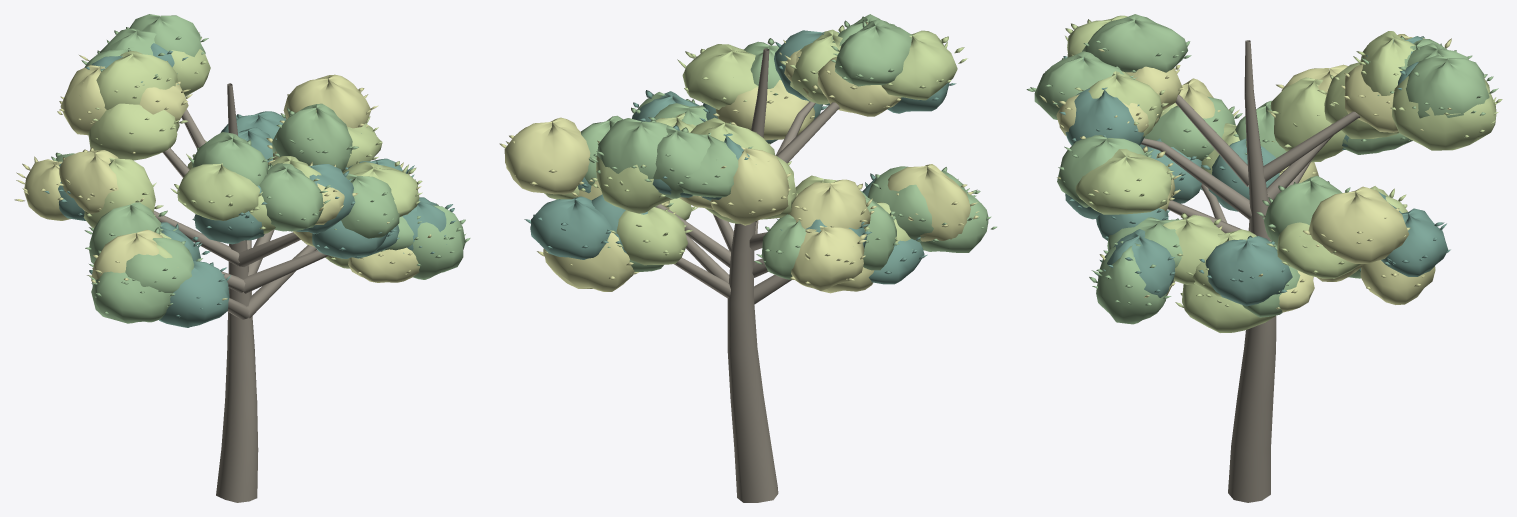
Rendered from oak_arch.glb.
3 renders of one model, left to right at view 1: azimuth 30°, elevation 25°; view 2: azimuth 150°, elevation 25°; view 3: azimuth 270°, elevation 25°, orthographic. The views are drawn at different scales.
Visible parts, largest first — view 1: oak_arch; view 2: oak_arch; view 3: oak_arch.
Boxes of the visible parts, <box> form: oak_arch: <box>14,14,470,502</box>; oak_arch: <box>499,14,996,502</box>; oak_arch: <box>1026,14,1502,502</box>.
Size of the model in its own units: 7.42 by 8.14 by 7.84.
